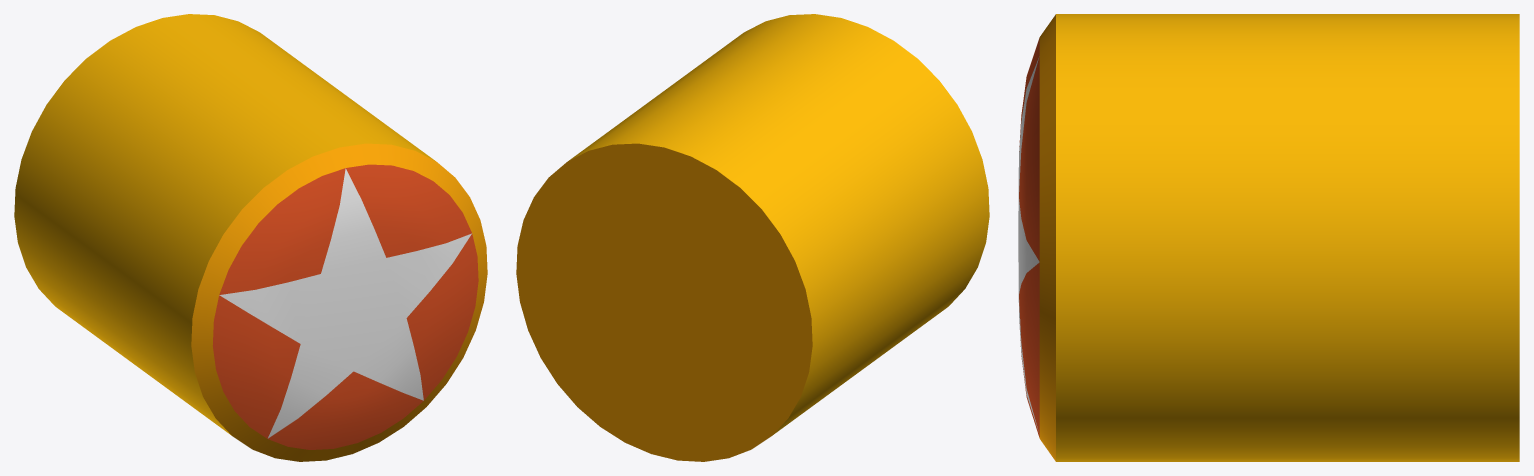
Rendered from D_FBX_06_Bumper_03_A.fbx.
3 views of the same model, side by side, from view 1: azimuth 30°, elevation 25°; view 2: azimuth 150°, elevation 25°; view 3: azimuth 270°, elevation 25° (orthographic). The views are drawn at different scales.
Visible parts, largest first — view 1: D_FBX_06_Bumper_03_A; view 2: D_FBX_06_Bumper_03_A; view 3: D_FBX_06_Bumper_03_A.
Part boxes in pixels (left/top/right/bottom): D_FBX_06_Bumper_03_A: left=14, top=14, right=487, bottom=461; D_FBX_06_Bumper_03_A: left=516, top=14, right=989, bottom=461; D_FBX_06_Bumper_03_A: left=1018, top=14, right=1519, bottom=461.
Size of the model in its own units: 1.89 by 1.89 by 2.12.
